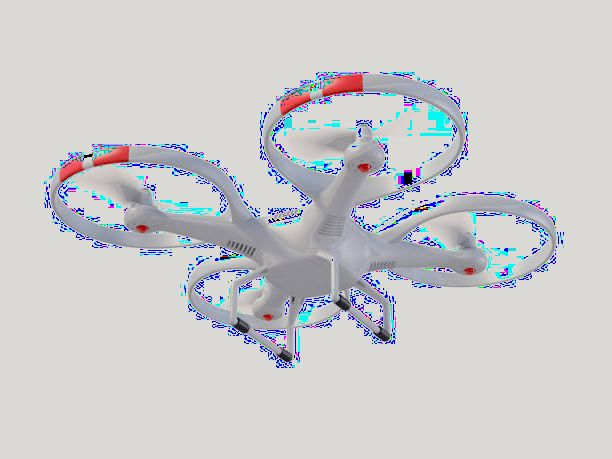Drone: (35, 63, 567, 376)
